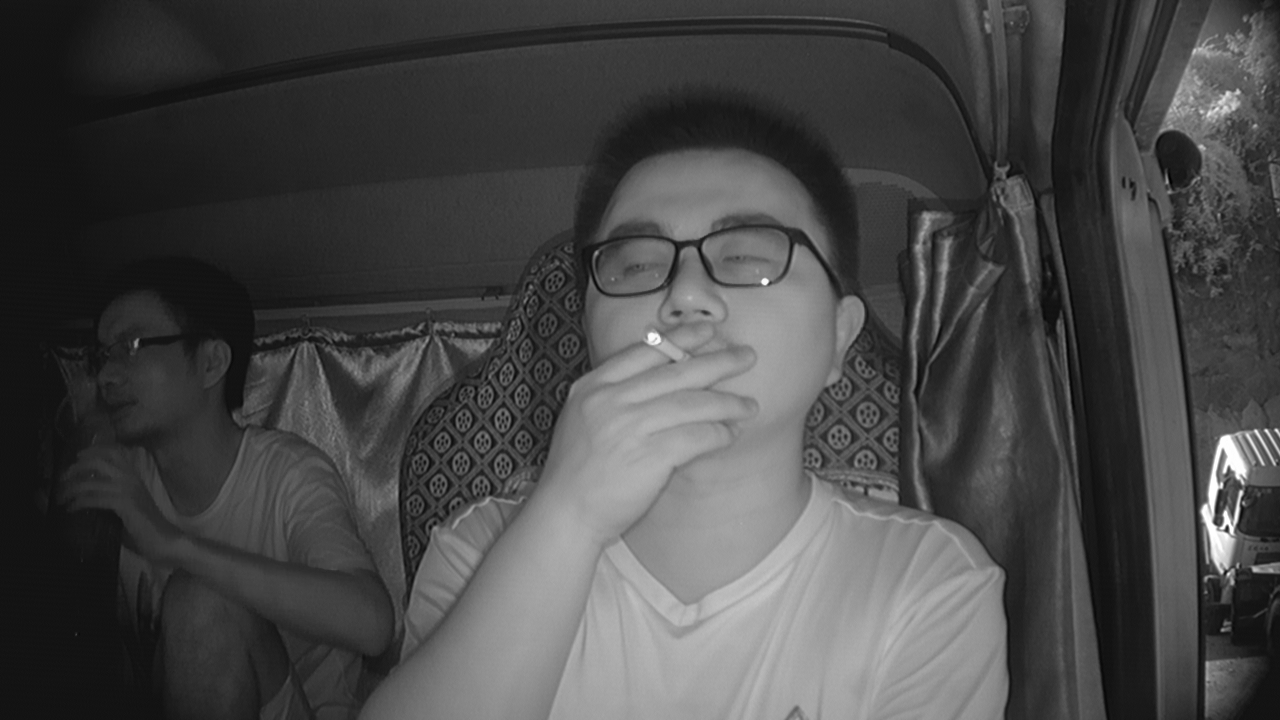hand: (593, 318, 753, 471)
